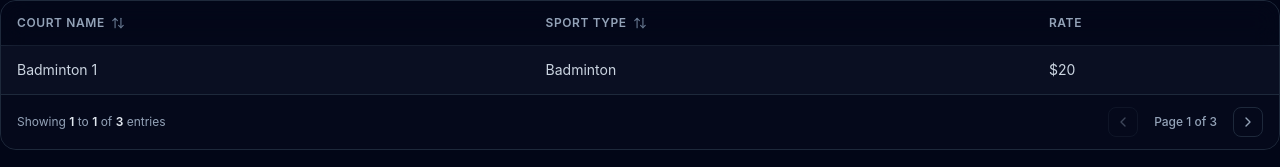
Table Component Behaviors › handles pagination correctly
Expected: the text "Page 1 of 3" is shown, [1154,114,1217,129]
Expected: the text "Badminton 1" is shown, [1,46,530,94]
Click the button named "Next page" at (1248, 122), box [1233,107,1263,137]
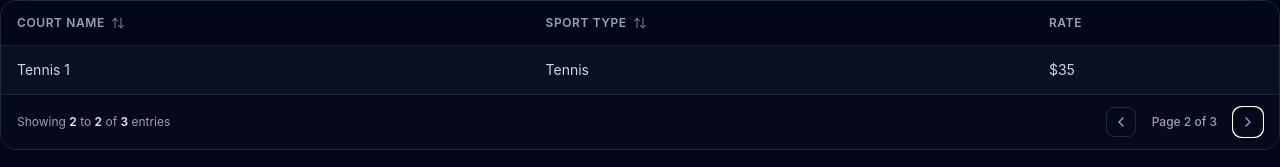
Now the text "Page 2 of 3" is shown, box [1152,114,1217,129]
Now the text "Tennis 1" is shown, box [1,46,530,94]
